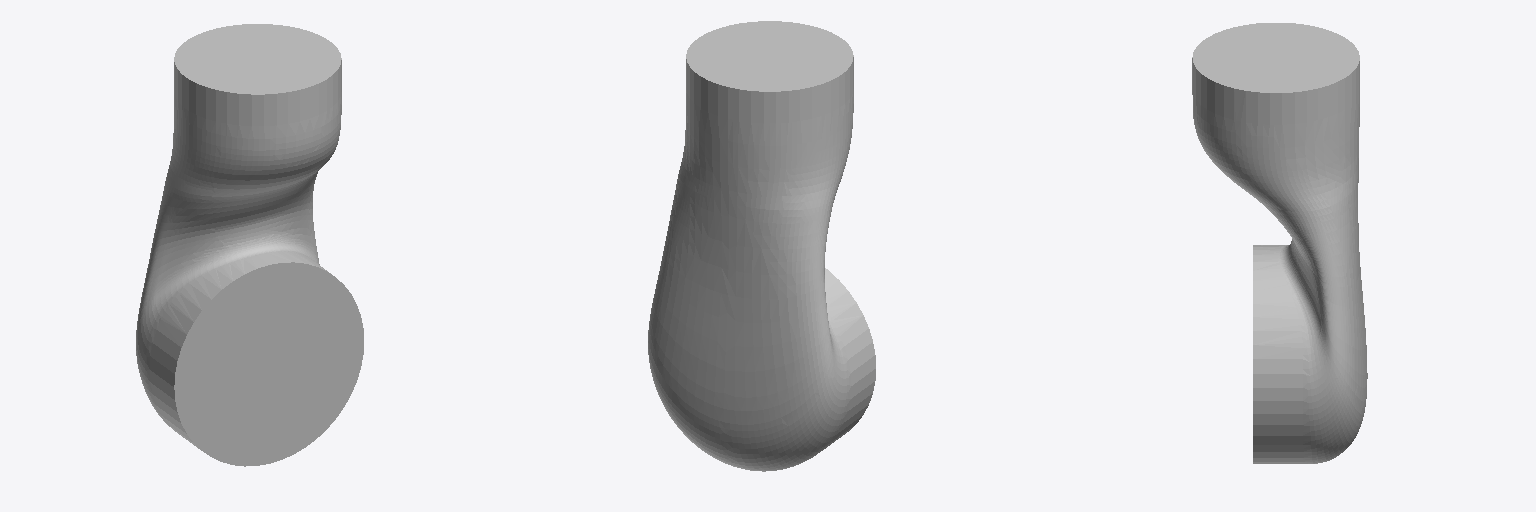
Rendered from processed_forearm_mico.obj.
3 views of the same model, side by side, from view 1: azimuth 30°, elevation 25°; view 2: azimuth 150°, elevation 25°; view 3: azimuth 270°, elevation 25° (orthographic).
Visible parts, largest first — view 1: forearm_mico; view 2: forearm_mico; view 3: forearm_mico.
Boxes of the visible parts, <box> form: forearm_mico: <box>136,24,363,466</box>; forearm_mico: <box>648,21,875,471</box>; forearm_mico: <box>1192,23,1367,463</box>.
Bounding box in the file's own units: 0.0825 × 0.1644 × 0.0658.